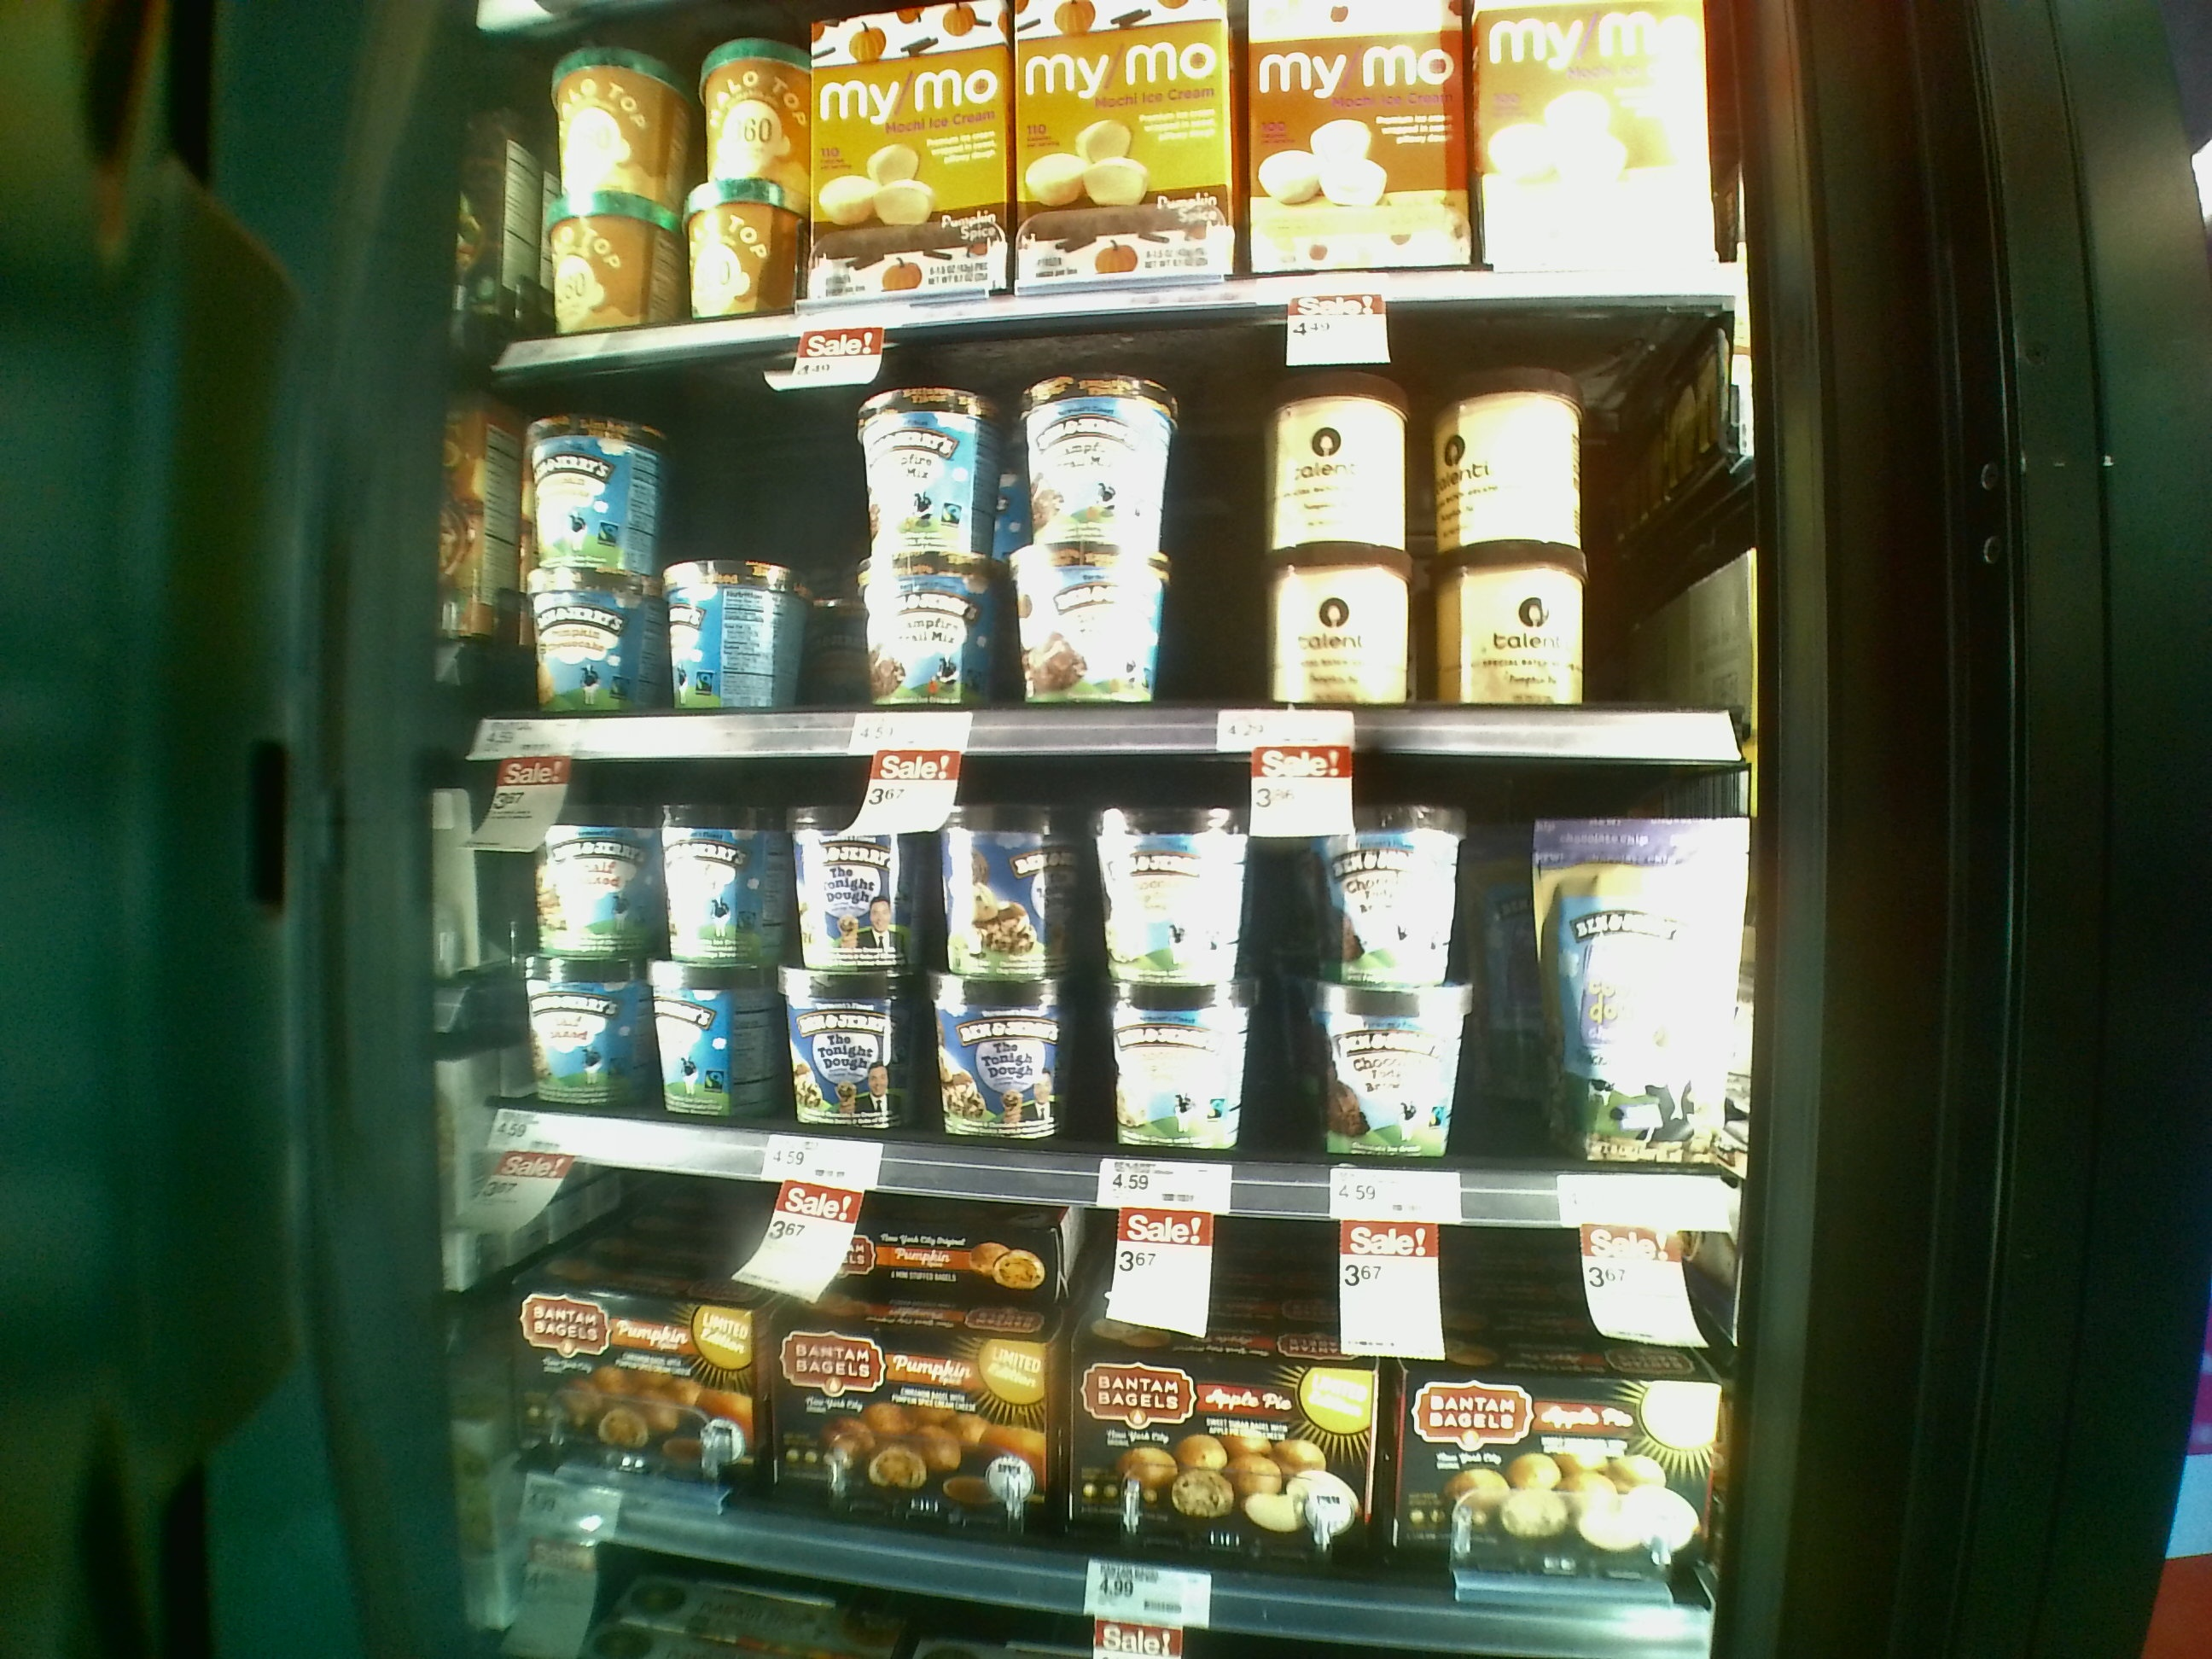shelf: (432, 1157, 1735, 1657), (439, 727, 1747, 1223), (456, 331, 1740, 769)
